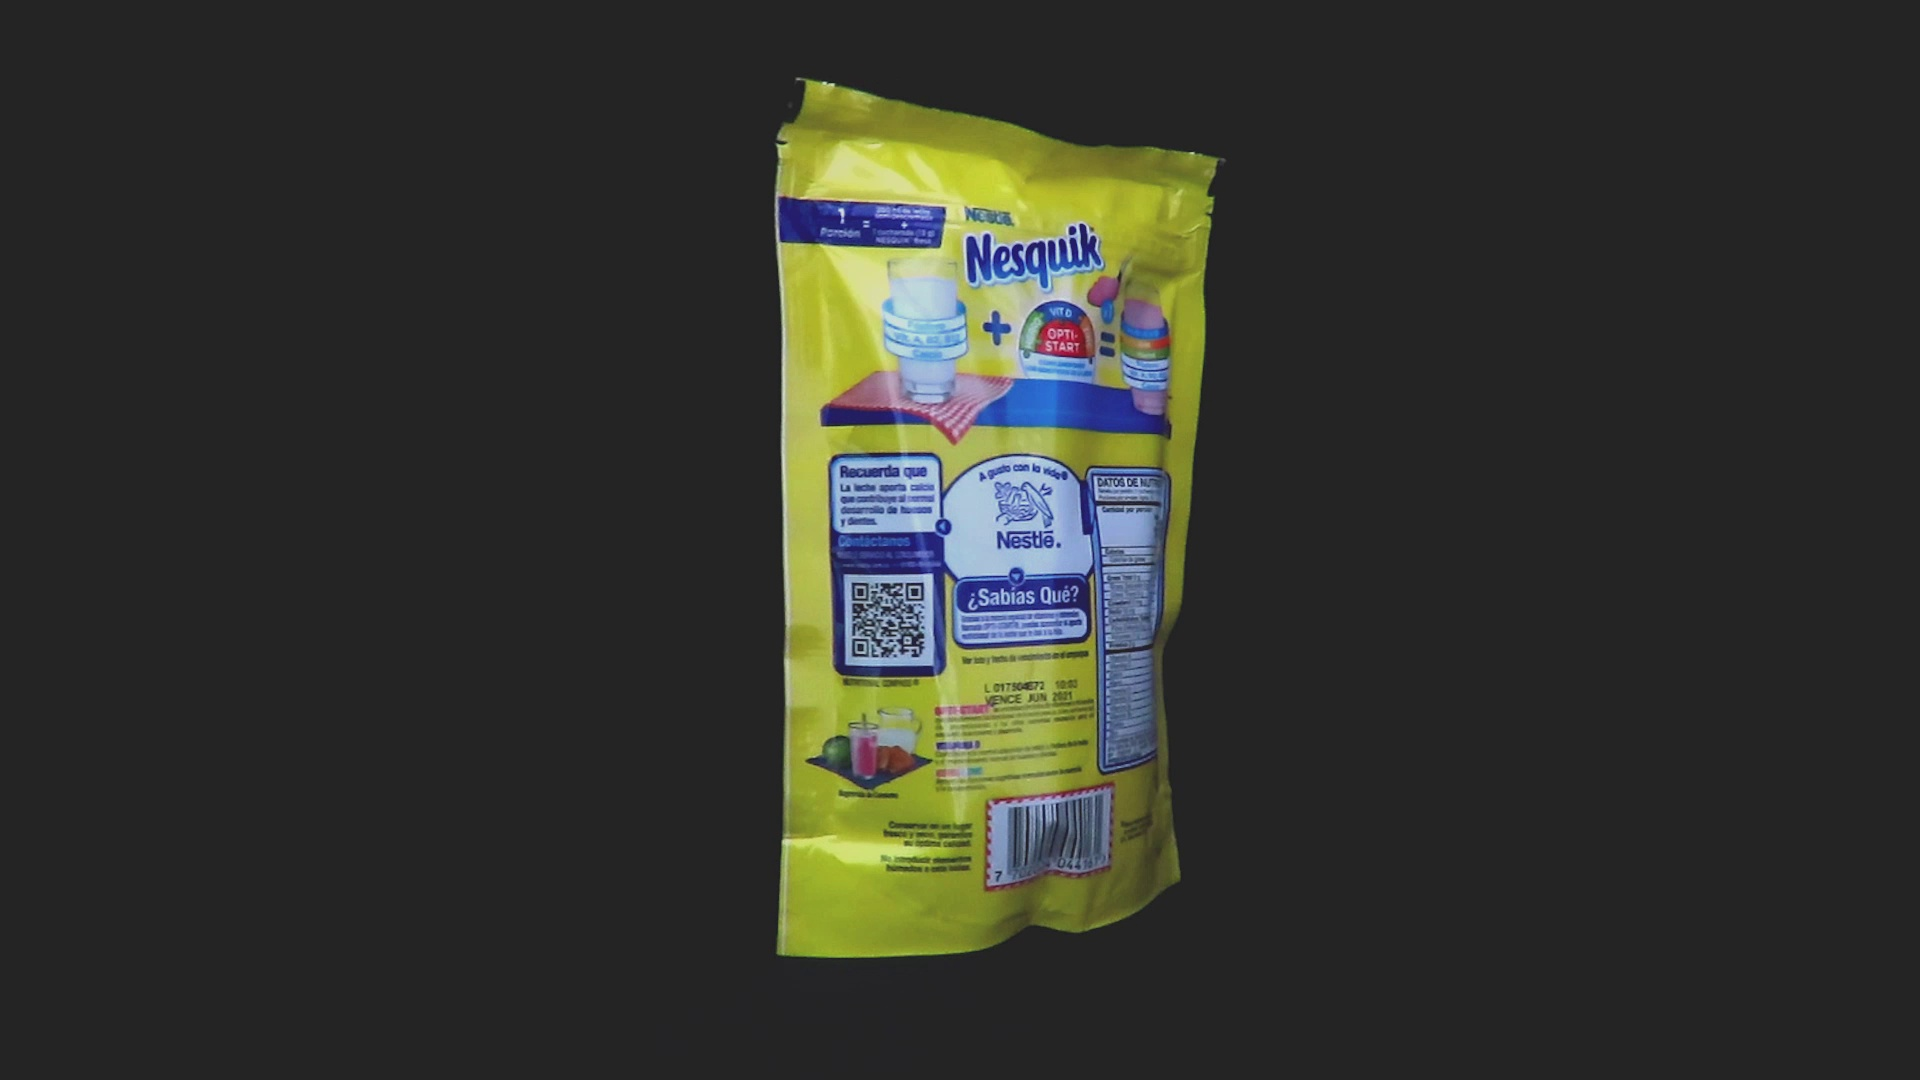COL0170305DYP20000: (769, 73, 1233, 964)
